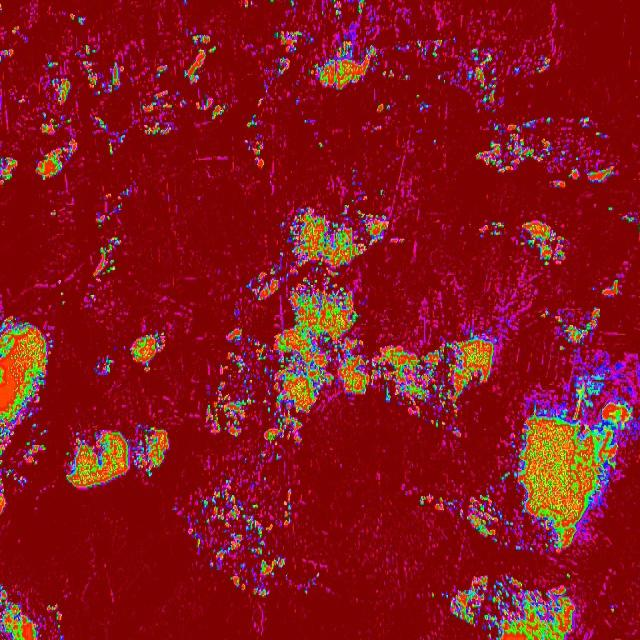fire: (203, 200, 499, 444), (500, 367, 634, 554), (185, 472, 294, 598), (473, 112, 618, 186), (0, 315, 53, 515), (438, 575, 576, 640), (64, 422, 168, 492), (417, 485, 502, 546), (305, 42, 379, 94), (541, 305, 605, 354), (76, 41, 125, 98), (467, 45, 504, 113), (138, 90, 188, 140), (519, 218, 565, 268), (0, 585, 39, 640), (34, 135, 84, 177), (182, 30, 218, 85), (91, 234, 128, 284), (390, 33, 456, 59), (129, 329, 170, 370), (95, 186, 134, 228), (92, 111, 125, 157), (271, 30, 303, 76), (432, 56, 466, 86), (241, 132, 267, 168), (196, 93, 226, 121), (38, 109, 72, 133), (0, 152, 19, 193), (46, 600, 64, 640), (349, 169, 367, 202), (50, 77, 70, 104), (92, 355, 116, 377), (600, 276, 624, 298), (380, 66, 410, 82), (412, 92, 432, 116), (304, 571, 322, 597), (256, 77, 272, 105), (54, 277, 68, 305), (621, 212, 640, 232), (536, 54, 550, 76), (0, 46, 18, 62), (68, 12, 86, 28), (152, 59, 168, 76), (330, 1, 344, 18), (376, 102, 394, 114), (246, 112, 258, 128), (171, 502, 182, 518), (356, 0, 368, 14), (242, 0, 258, 10), (258, 450, 268, 464), (302, 117, 316, 127), (46, 60, 60, 70), (49, 208, 60, 220), (11, 22, 20, 36), (512, 65, 523, 76), (608, 604, 618, 616), (274, 452, 284, 464), (240, 455, 252, 465), (498, 220, 506, 234), (316, 139, 326, 150), (287, 0, 298, 10), (292, 95, 302, 106), (607, 204, 616, 214), (88, 292, 96, 302), (432, 137, 441, 145), (429, 590, 436, 600), (267, 0, 278, 5), (293, 79, 300, 86), (379, 187, 385, 195), (0, 2, 4, 14), (22, 35, 26, 44), (182, 0, 188, 5)
